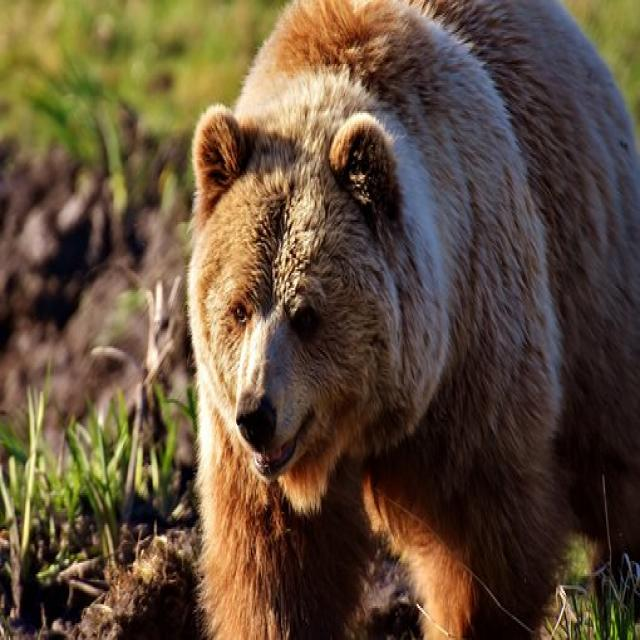Bear: (186, 0, 640, 640)
